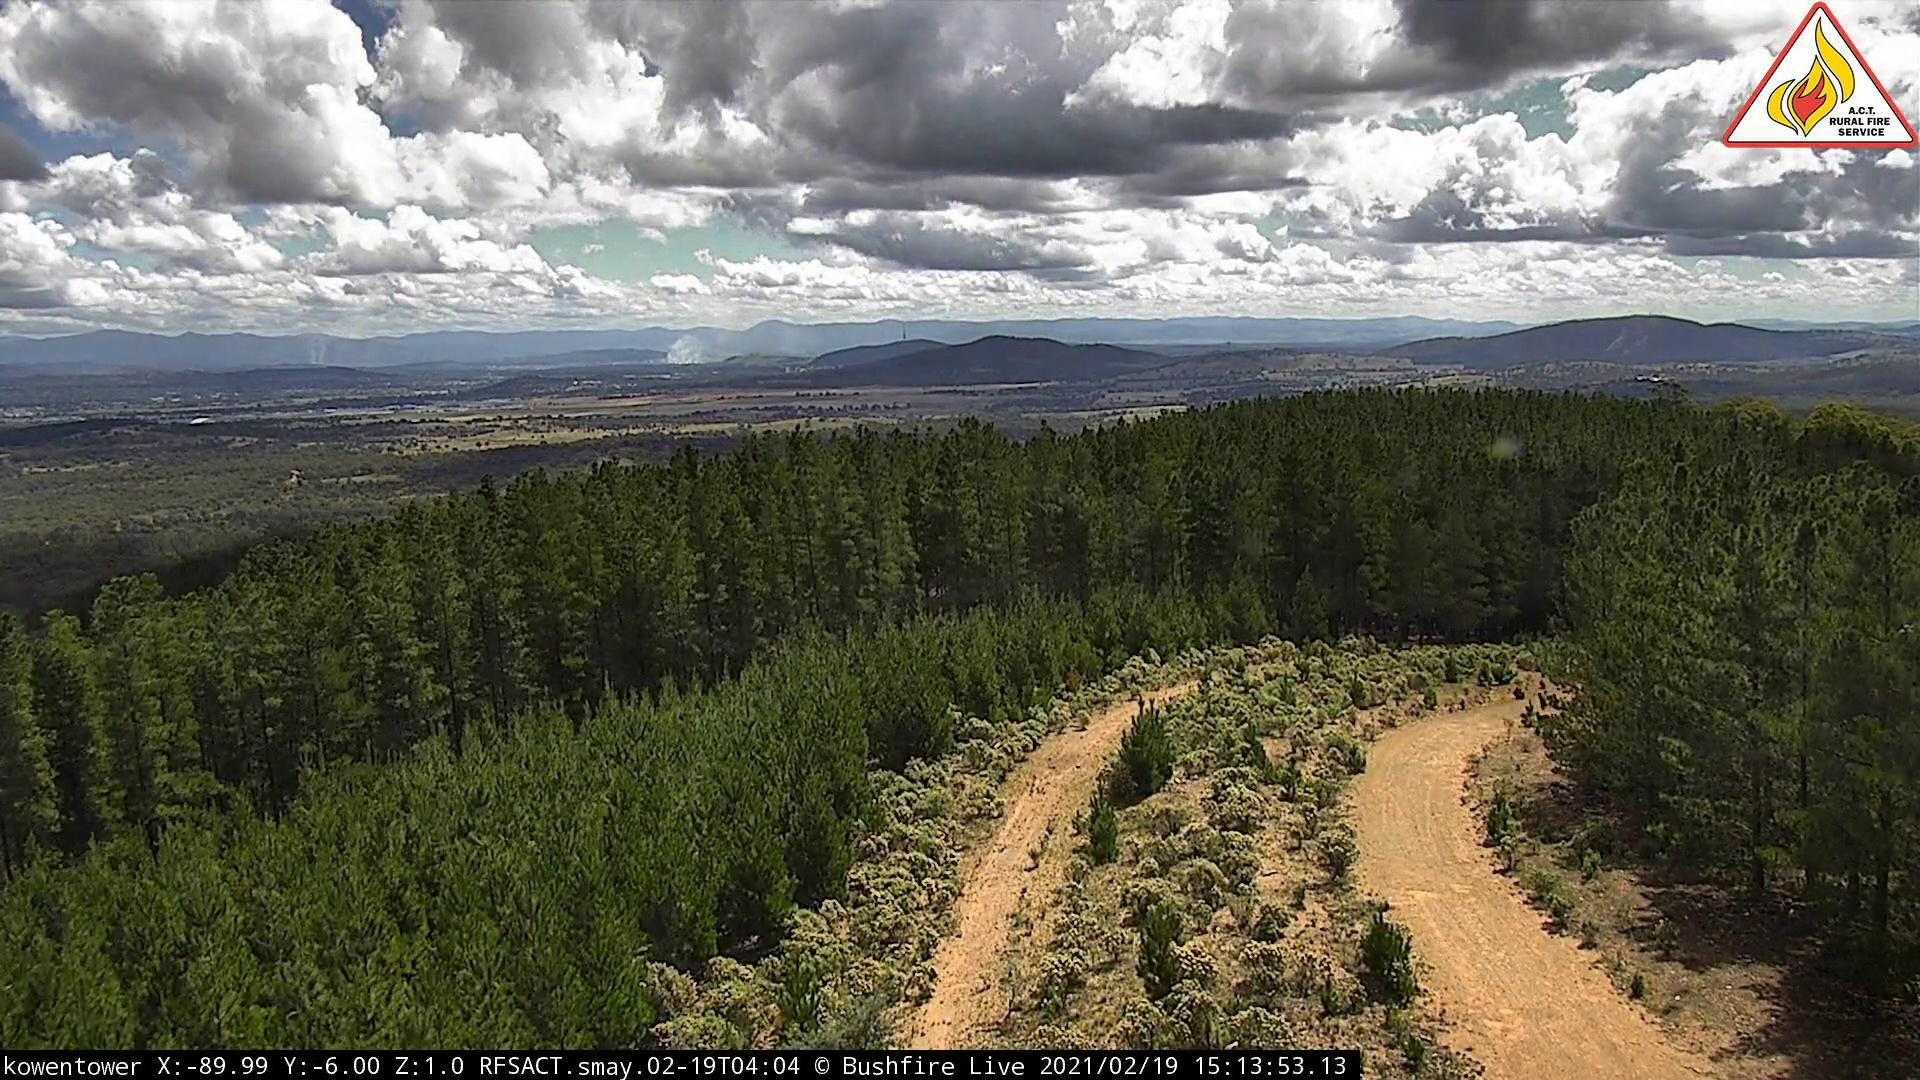instance_salient_object: (665, 309, 752, 372), (295, 322, 360, 377)
